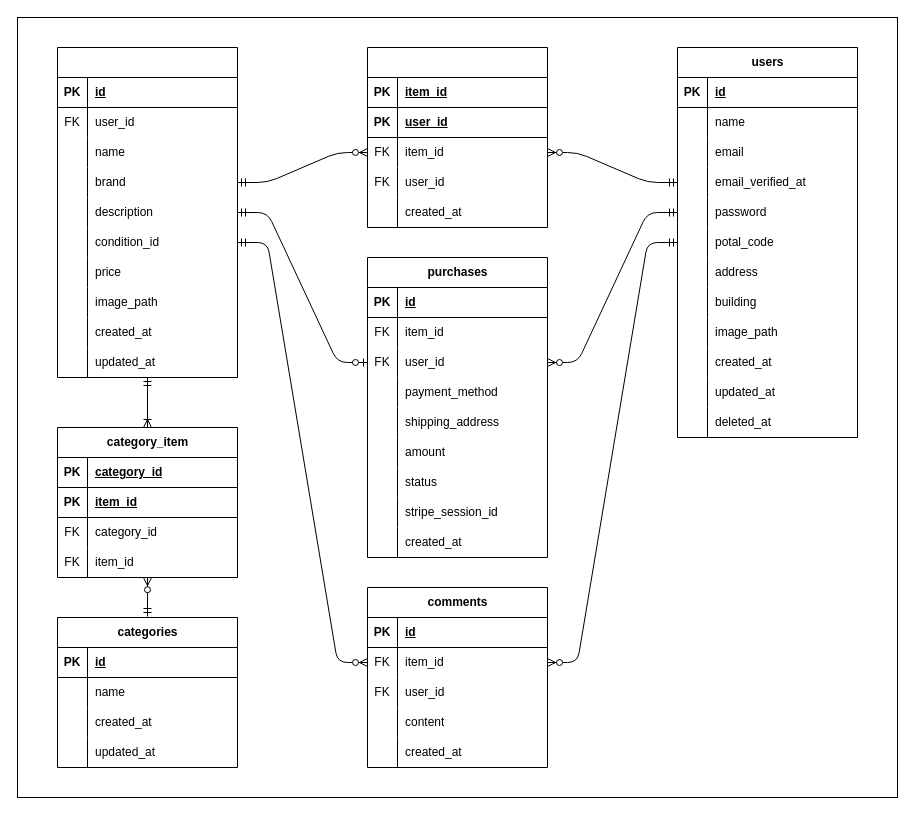
Image size: 915x815. Some labels were removed from this diagram. Here are the shapes that lost their labels. From the top down, the box of each, then its label:
(366, 46, 548, 228): favorites
(56, 46, 238, 378): items
